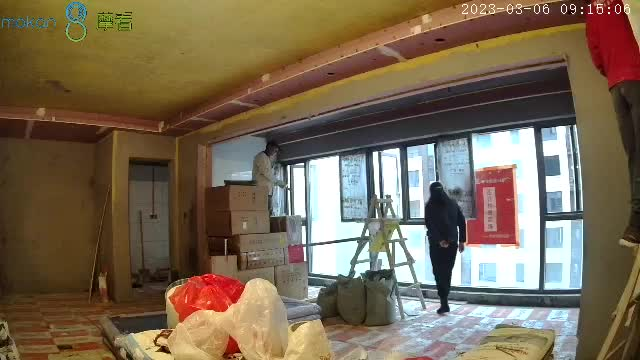people: (424, 180, 466, 314), (252, 142, 282, 210)
window: (276, 124, 582, 295)
